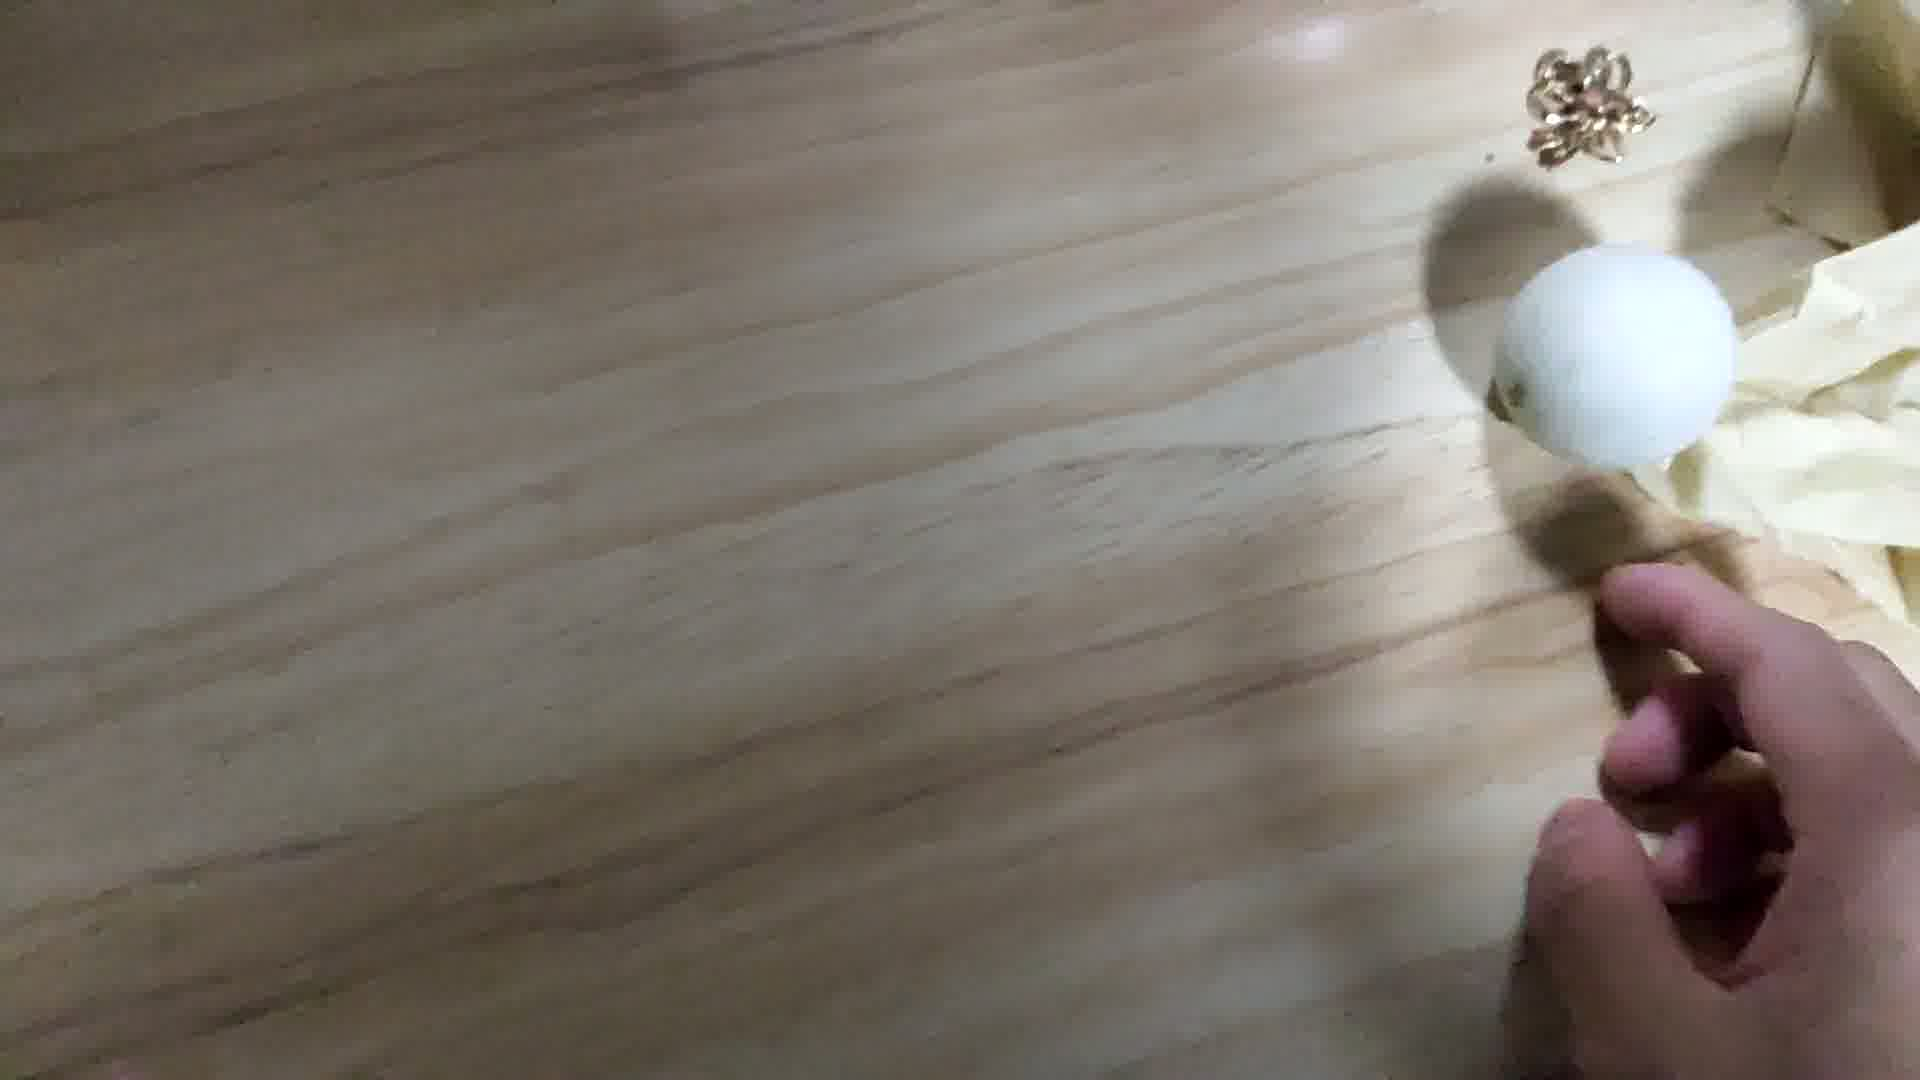Ball: (1499, 240, 1733, 465)
